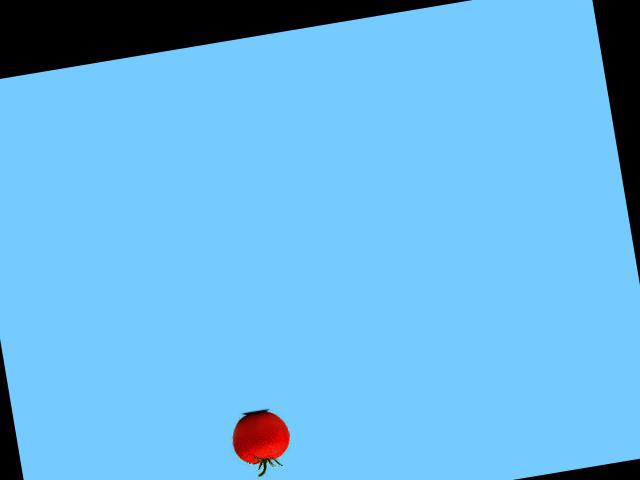tomato: (229, 407, 293, 466)
